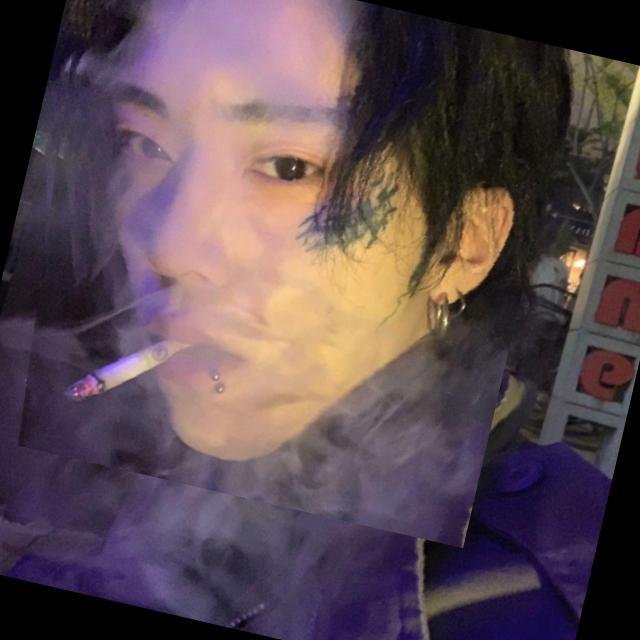cigarette: (0, 297, 181, 419)
